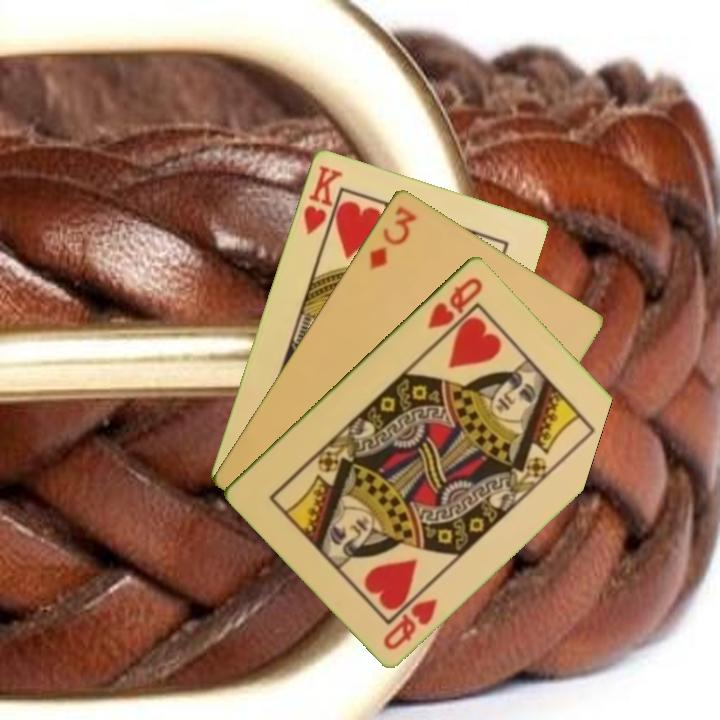3d: (365, 202, 420, 272)
Kh: (299, 161, 346, 246)
Qh: (423, 273, 486, 332), (380, 594, 441, 653)
